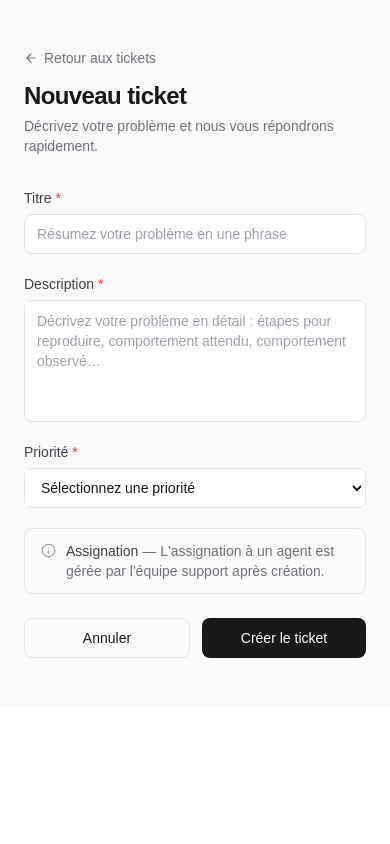
Test: NewTicket page › affiche le message d'erreur retourné par l'API
The width and height of the screenshot is (390, 844).
Type "Mon ticket test" into the field labelled "Titre *" at {"x": 195, "y": 234}, box left=24, top=214, right=366, bottom=254
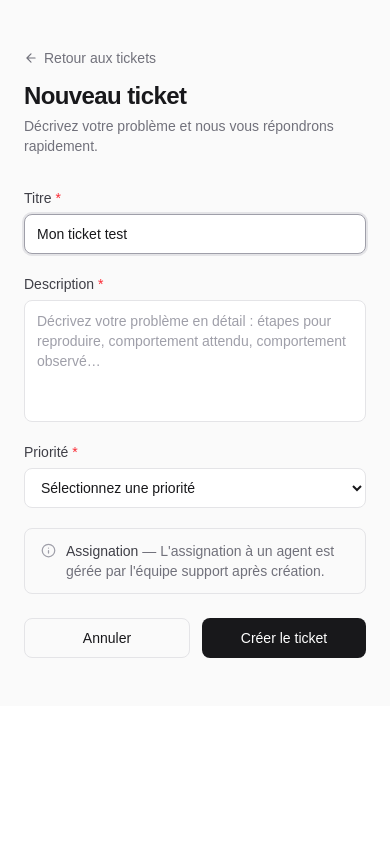
Type "Description ok" into the text box labelled "Description *" at {"x": 195, "y": 361}, box left=24, top=300, right=366, bottom=422
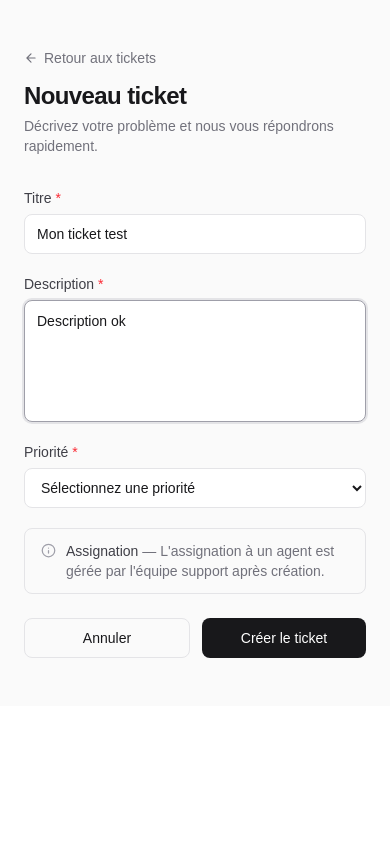
Select "Faible" in the dropdown labelled "Priorité *" at {"x": 195, "y": 488}, box left=24, top=468, right=366, bottom=508
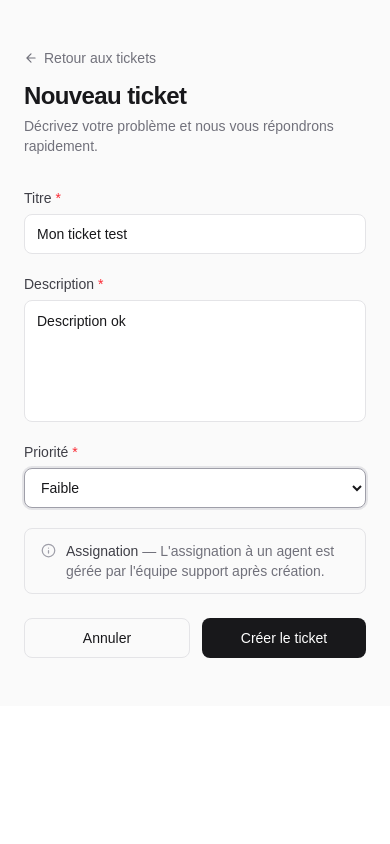
Click the button "Créer le ticket" at {"x": 284, "y": 638}, box left=202, top=618, right=366, bottom=658
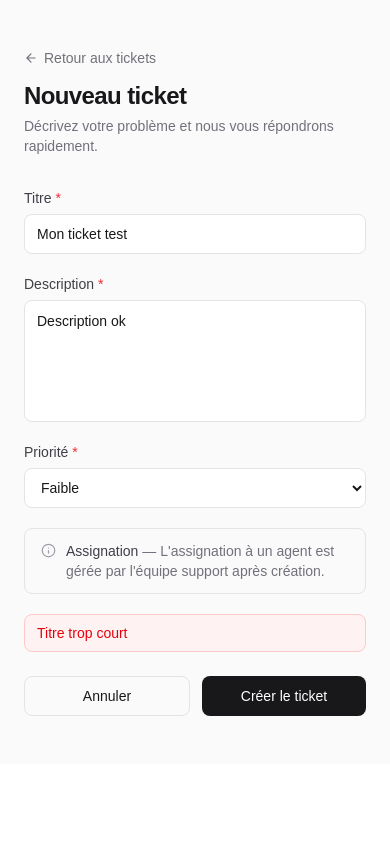
Now the text "Titre trop court" is shown, box left=24, top=614, right=366, bottom=652
